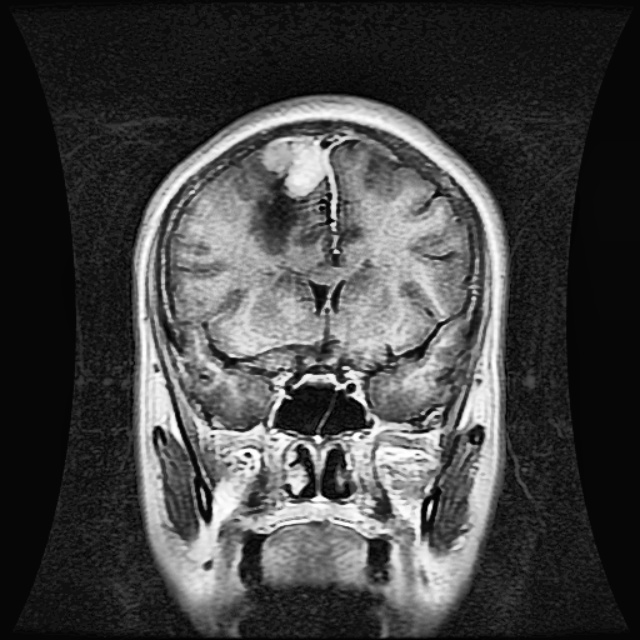Glioma: (263, 137, 327, 193)
